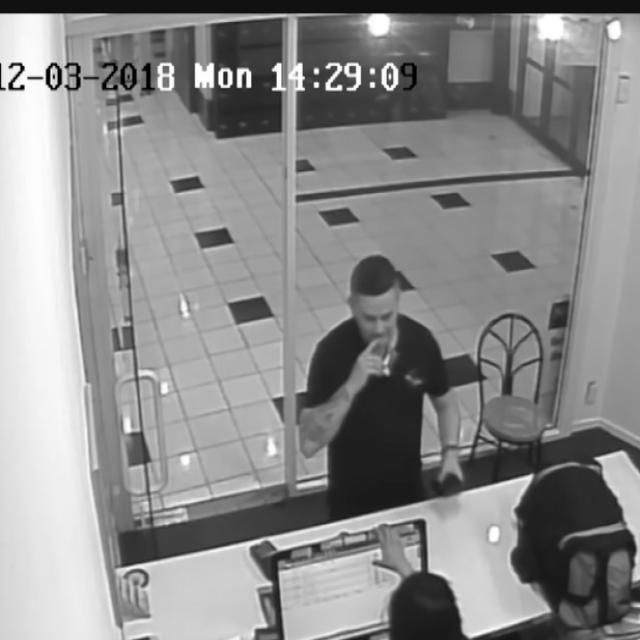Invader: (296, 253, 464, 520), (365, 519, 472, 640)
